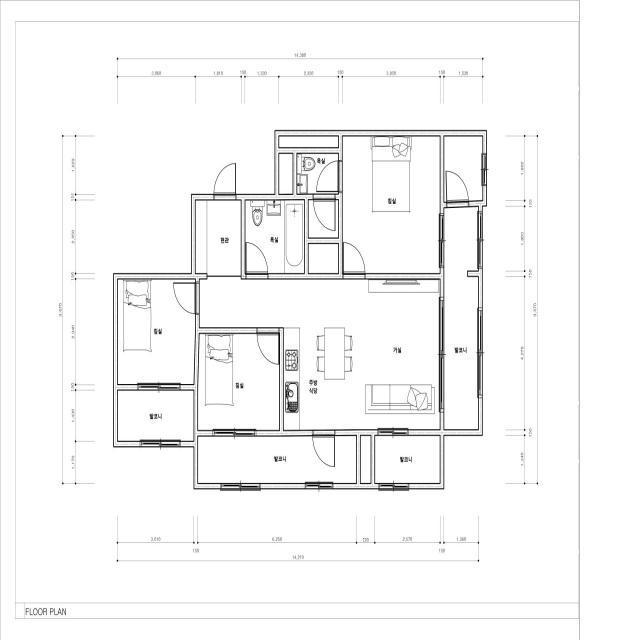space_balconi: (444, 207, 478, 429), (198, 436, 356, 483), (118, 390, 194, 441)
space_bedroom: (343, 137, 440, 273), (118, 280, 195, 384), (198, 334, 279, 430)
space_front: (196, 200, 241, 276)
space_kitchen: (284, 328, 353, 429)
space_living_room: (200, 280, 440, 429)
space_other: (375, 436, 440, 483), (444, 136, 482, 202), (310, 246, 340, 276), (279, 136, 338, 147), (279, 154, 293, 194), (361, 436, 371, 483)
space_toilet: (245, 200, 304, 274), (297, 154, 338, 238)
